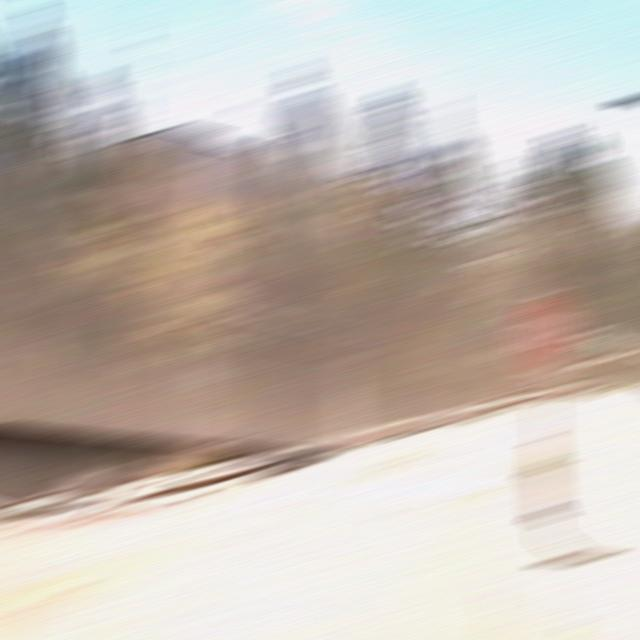stop_sign: (507, 292, 579, 368)
